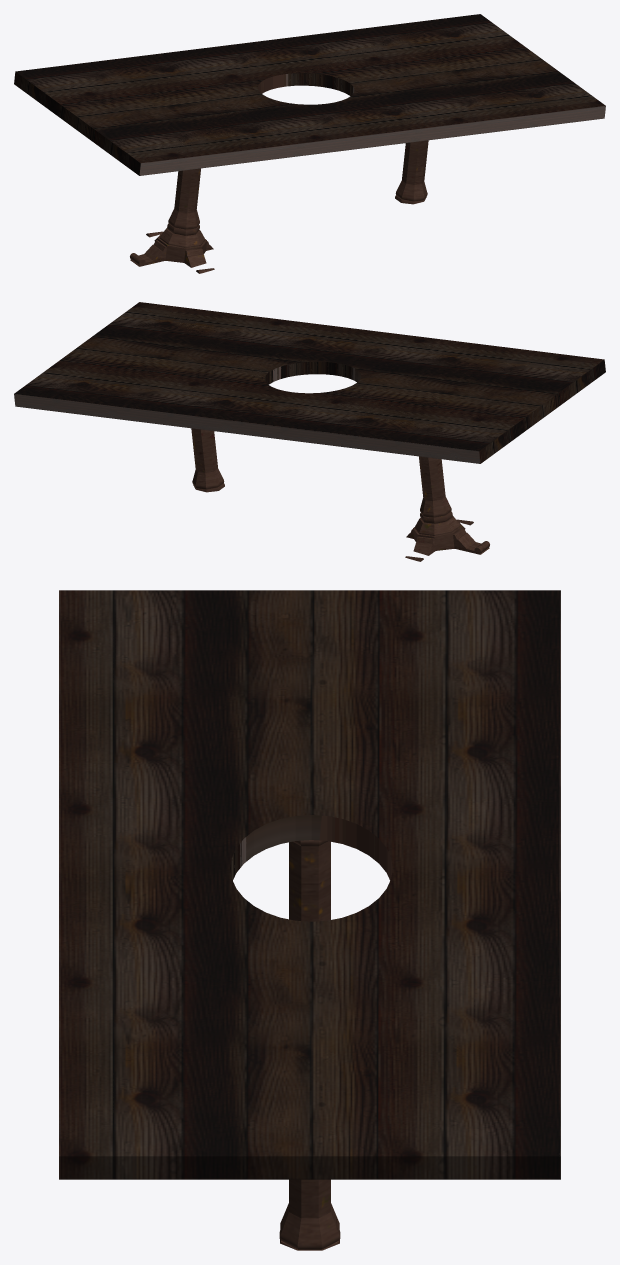
File: holemasa.fbx
3 renders of one model, top to bottom at view 1: azimuth 30°, elevation 25°; view 2: azimuth 150°, elevation 25°; view 3: azimuth 270°, elevation 25°, orthographic. The views are drawn at different scales.
Visible parts, largest first — view 1: Medieval Table; view 2: Medieval Table; view 3: Medieval Table.
Part boxes in pixels (x1=…): Medieval Table: x1=14, y1=14, x2=605, y2=273; Medieval Table: x1=14, y1=302, x2=605, y2=561; Medieval Table: x1=59, y1=590, x2=560, y2=1250.
Size of the model in its own units: 195 by 64.47 by 90.81.
